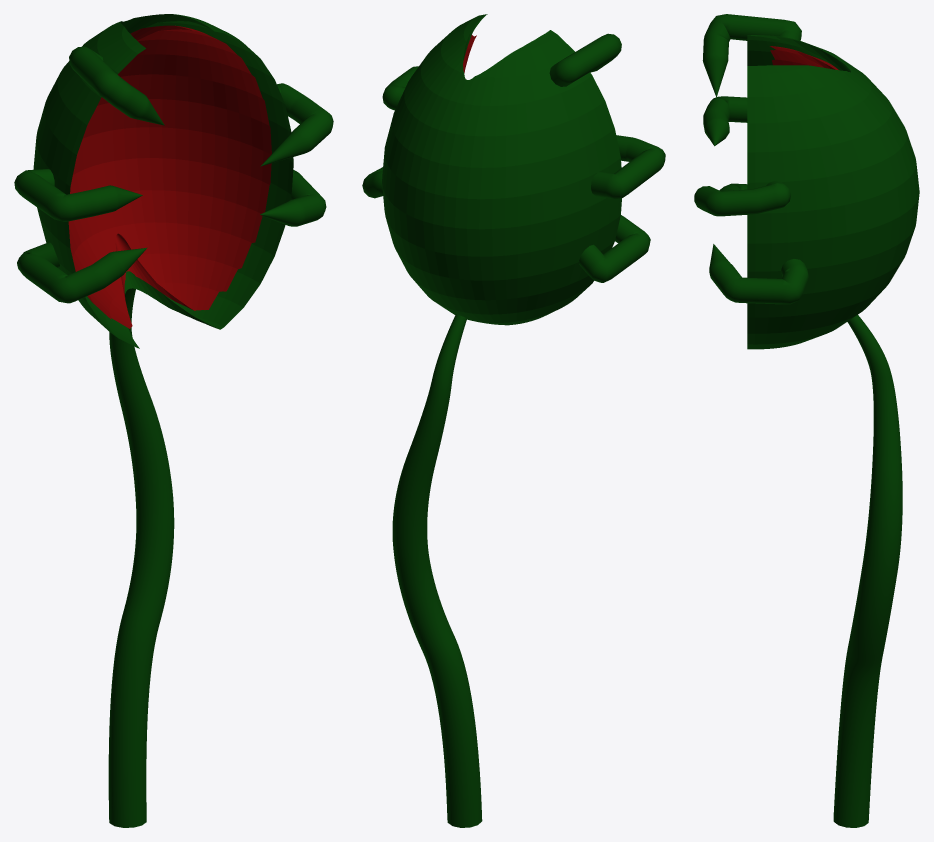
File: plant1.glb
The picture shows the model from 3 angles, left to right: view 1: azimuth 30°, elevation 25°; view 2: azimuth 150°, elevation 25°; view 3: azimuth 270°, elevation 25°; orthographic projection. The views are drawn at different scales.
Visible parts, largest first — view 1: Sphere.002, NurbsPath, Sphere, NurbsPath.005, NurbsPath.004, NurbsPath.003, NurbsPath.001, NurbsPath.002; view 2: Sphere, NurbsPath, NurbsPath.004, NurbsPath.005, NurbsPath.003, NurbsPath.001; view 3: Sphere, NurbsPath, NurbsPath.002, NurbsPath.003, NurbsPath.001, NurbsPath.004, Sphere.002.
Part boxes in pixels (x1,y1,x2,y2): Sphere.002: [68, 25, 271, 328]; NurbsPath: [108, 288, 174, 827]; Sphere: [33, 14, 293, 348]; NurbsPath.005: [17, 242, 147, 303]; NurbsPath.004: [14, 169, 142, 221]; NurbsPath.003: [69, 46, 164, 125]; NurbsPath.001: [260, 83, 333, 166]; NurbsPath.002: [260, 170, 326, 226]; Sphere: [382, 14, 621, 325]; NurbsPath: [392, 314, 482, 827]; NurbsPath.004: [591, 135, 665, 199]; NurbsPath.005: [579, 215, 650, 282]; NurbsPath.003: [549, 33, 621, 86]; NurbsPath.001: [382, 66, 418, 110]; Sphere: [747, 35, 919, 349]; NurbsPath: [833, 315, 902, 827]; NurbsPath.002: [709, 244, 808, 304]; NurbsPath.003: [702, 14, 801, 97]; NurbsPath.001: [694, 180, 790, 216]; NurbsPath.004: [703, 96, 747, 146]; Sphere.002: [770, 46, 838, 70].
Size of the model in its own units: 1.89 by 5.17 by 1.37.
